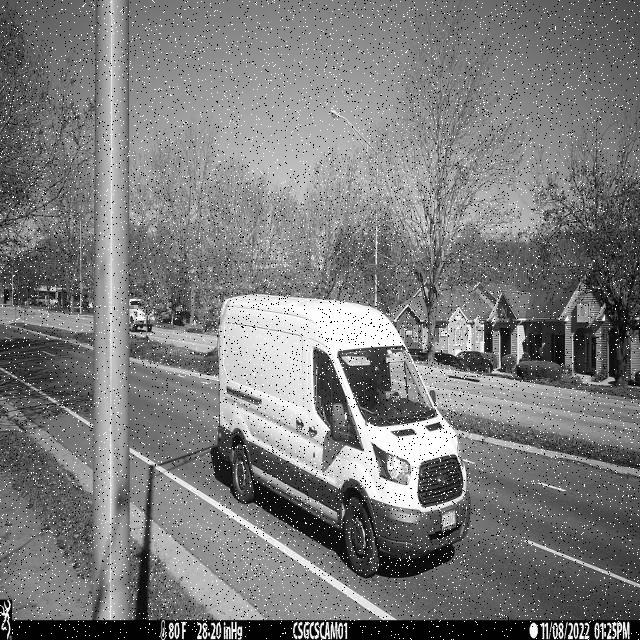Van: (217, 294, 472, 580)
